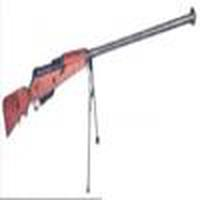gun: (5, 7, 200, 144)
